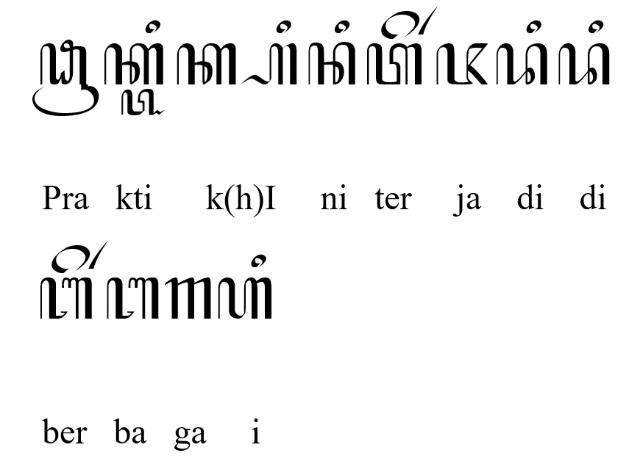Pr: (32, 38, 100, 118)
_h: (240, 42, 298, 86)
_r1: (418, 5, 442, 36), (88, 239, 110, 269)
_t: (121, 88, 167, 116)
b: (40, 277, 96, 320), (106, 277, 160, 321)
d: (496, 42, 548, 86), (558, 44, 612, 86)
e: (380, 9, 420, 39), (50, 246, 90, 275)
g: (164, 276, 212, 320)
h: (216, 277, 272, 320)
i: (526, 19, 542, 35), (145, 20, 161, 34), (276, 20, 292, 34), (334, 20, 350, 34), (588, 20, 604, 34), (251, 255, 267, 268)
j: (436, 42, 488, 86)
k: (176, 41, 238, 85), (103, 42, 163, 86)
n: (308, 42, 357, 86)
t: (365, 41, 423, 86)
